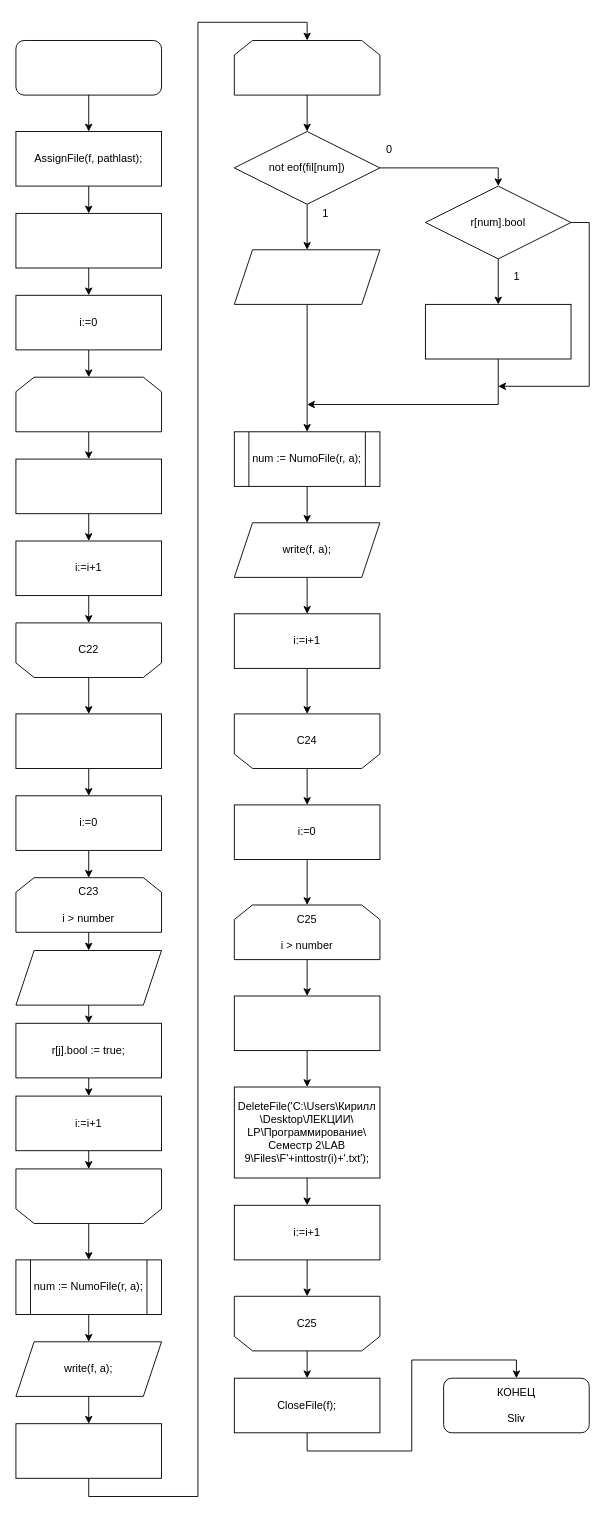
Some shapes in this 612 by 1520 pixel diagram are drawn without their labels. Each missing label, with the box of its shape:
CloseFile(fil[i]);: (233, 995, 380, 1051)
i:=2: (15, 1423, 162, 1478)
r[num].bool := false;: (425, 303, 571, 359)
read(fil[j], r[j].zapis);: (15, 950, 162, 1005)
read(fil[num], r[num].zapis): (233, 249, 380, 304)
Reset(fil[i]);: (15, 458, 162, 514)
Rewrite(f);: (15, 212, 162, 268)
setlength(r, number + 1);: (15, 713, 162, 768)
Sliv НАЧАЛО: (15, 40, 162, 95)
С22 i > number: (15, 376, 162, 432)
С23: (15, 1168, 162, 1223)
С24 i > 10000000: (233, 40, 380, 95)
